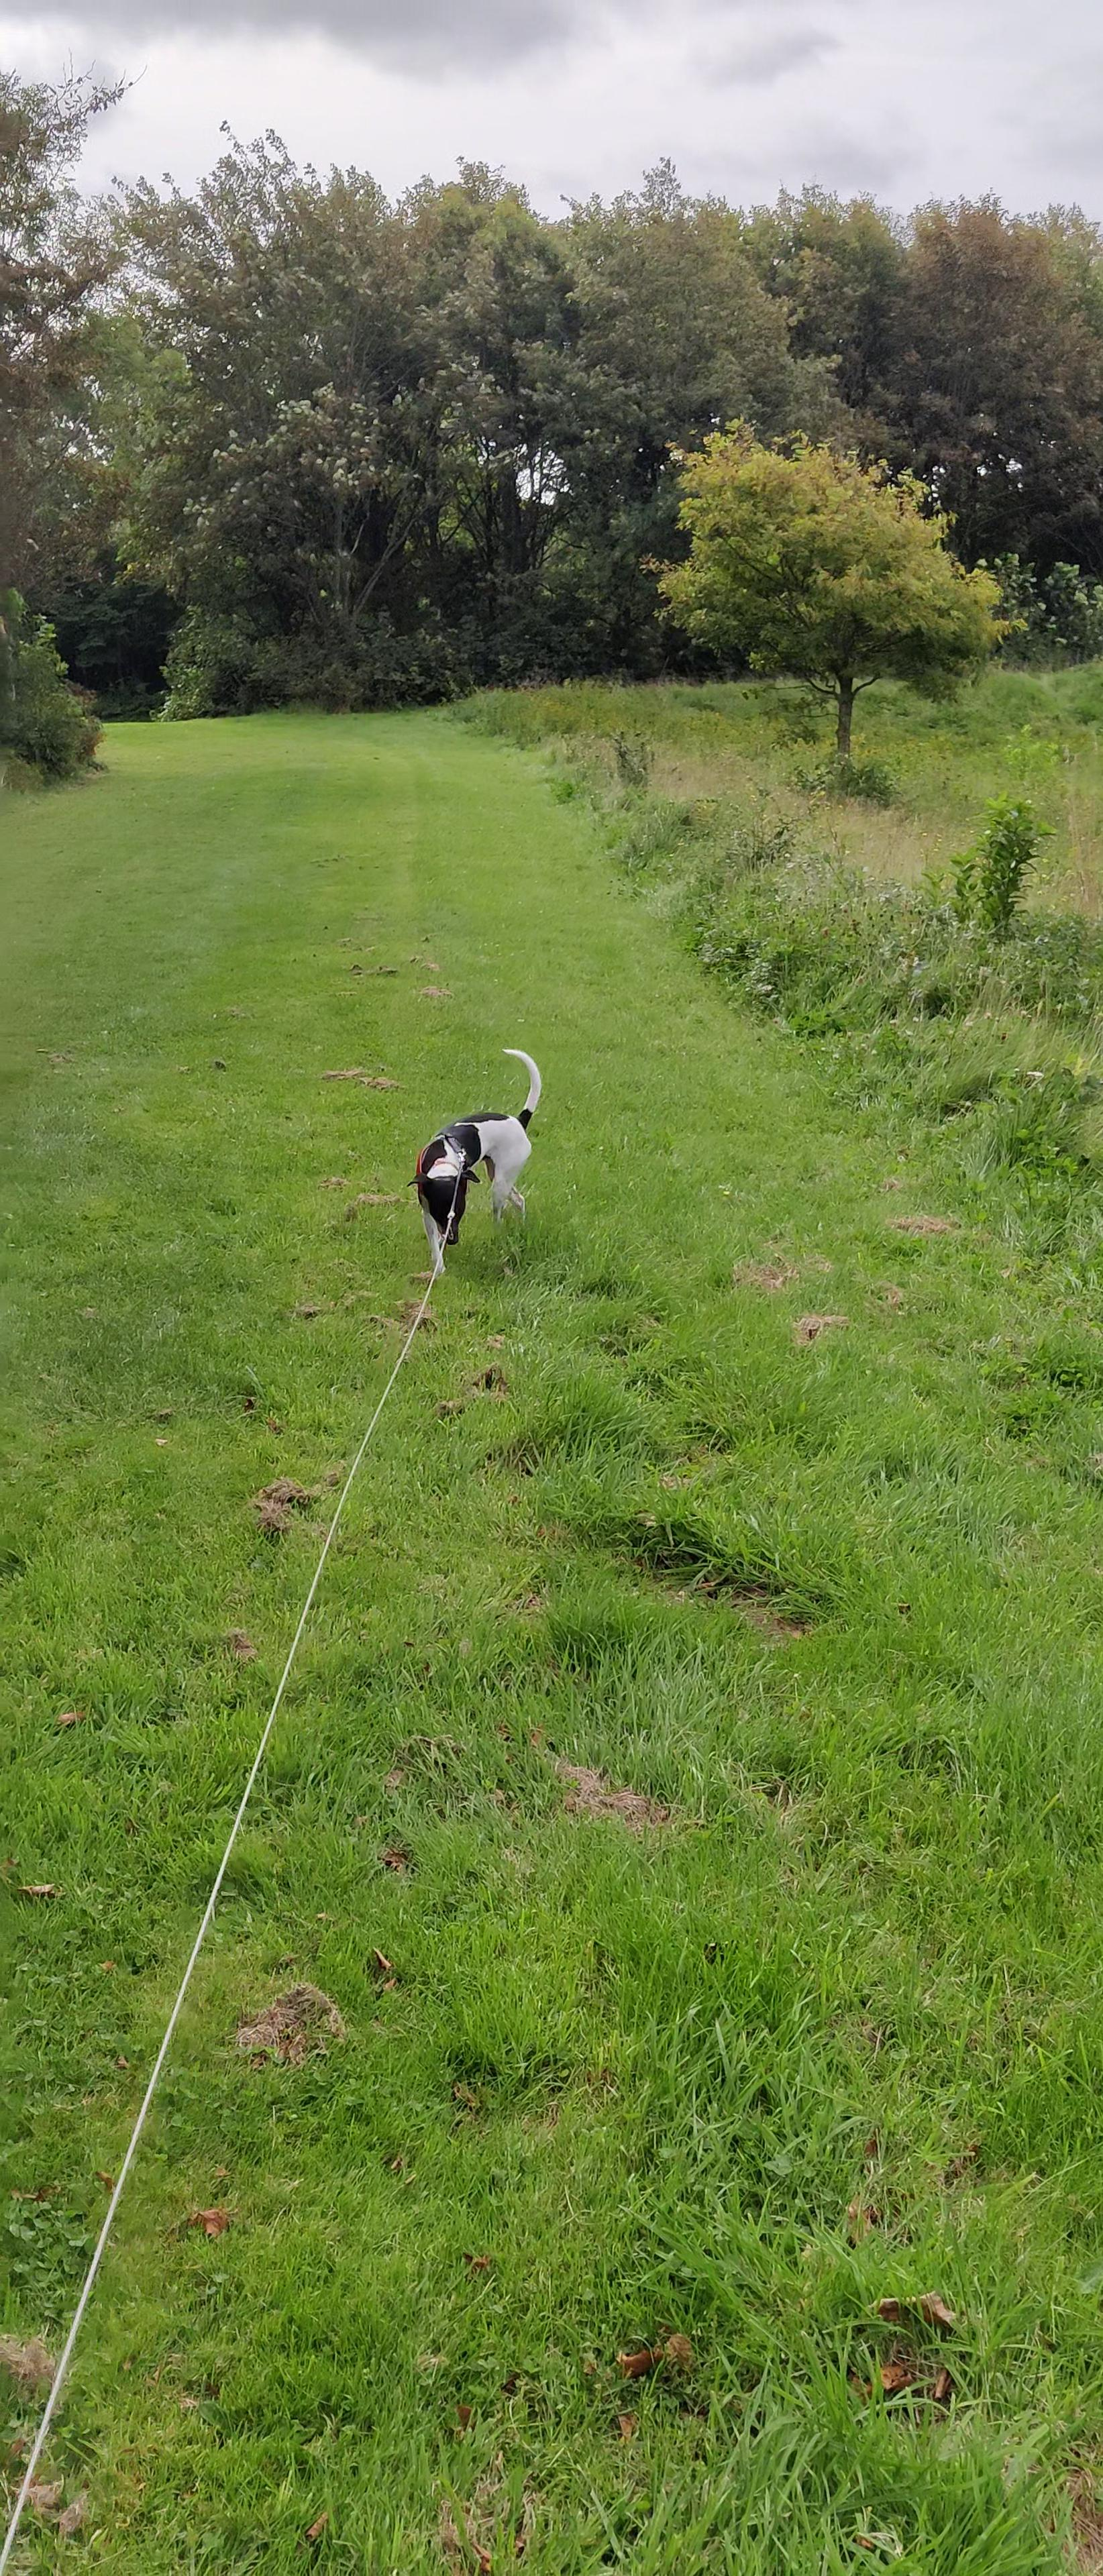Dog: (398, 1043, 549, 1281)
